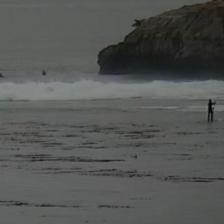surfer: (207, 99, 216, 122), (42, 70, 47, 76), (0, 73, 5, 78)
